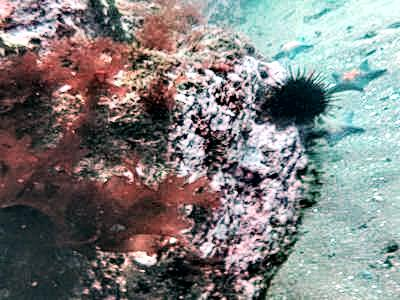urchin: (259, 68, 325, 123)
